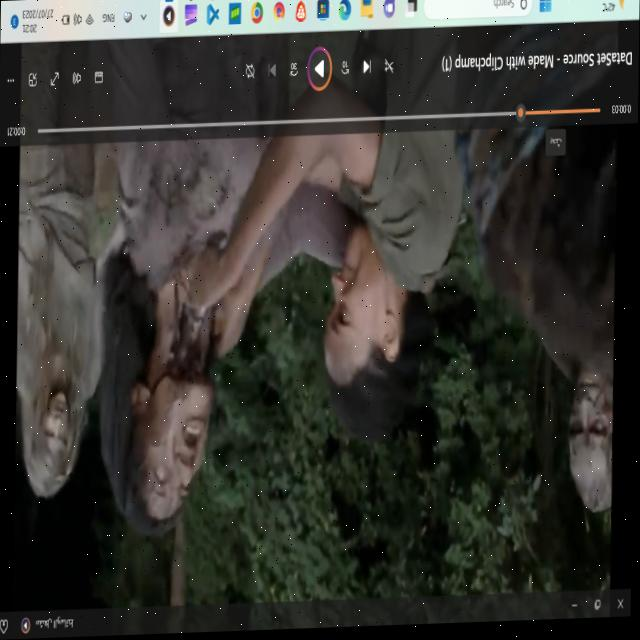Zombie: (143, 386, 219, 518), (567, 365, 615, 513), (32, 372, 78, 481)
human: (330, 226, 413, 445)
